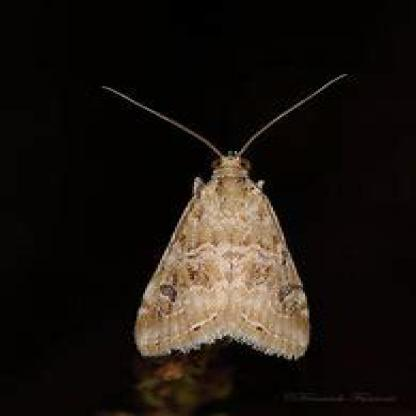Hellula undalis: (92, 71, 354, 365)
